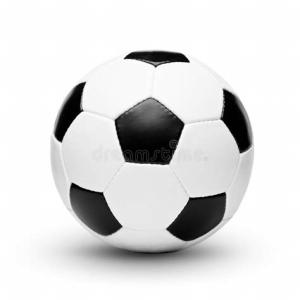Football: (48, 49, 255, 255)
